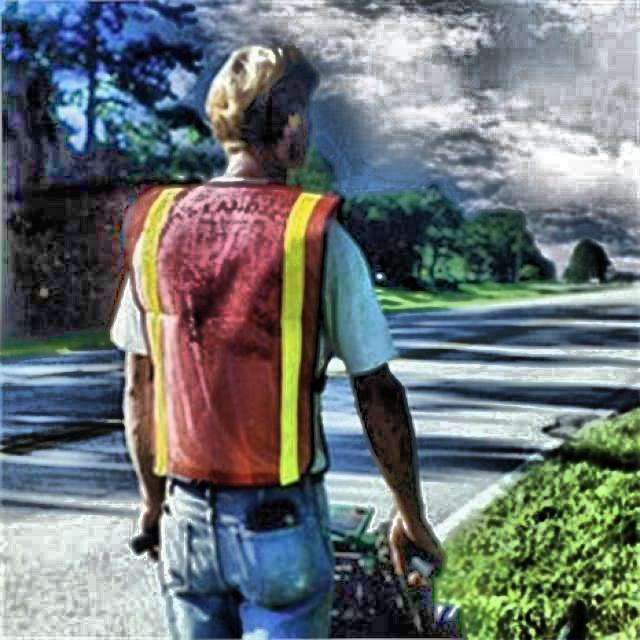safety_jacket: (136, 168, 326, 504)
